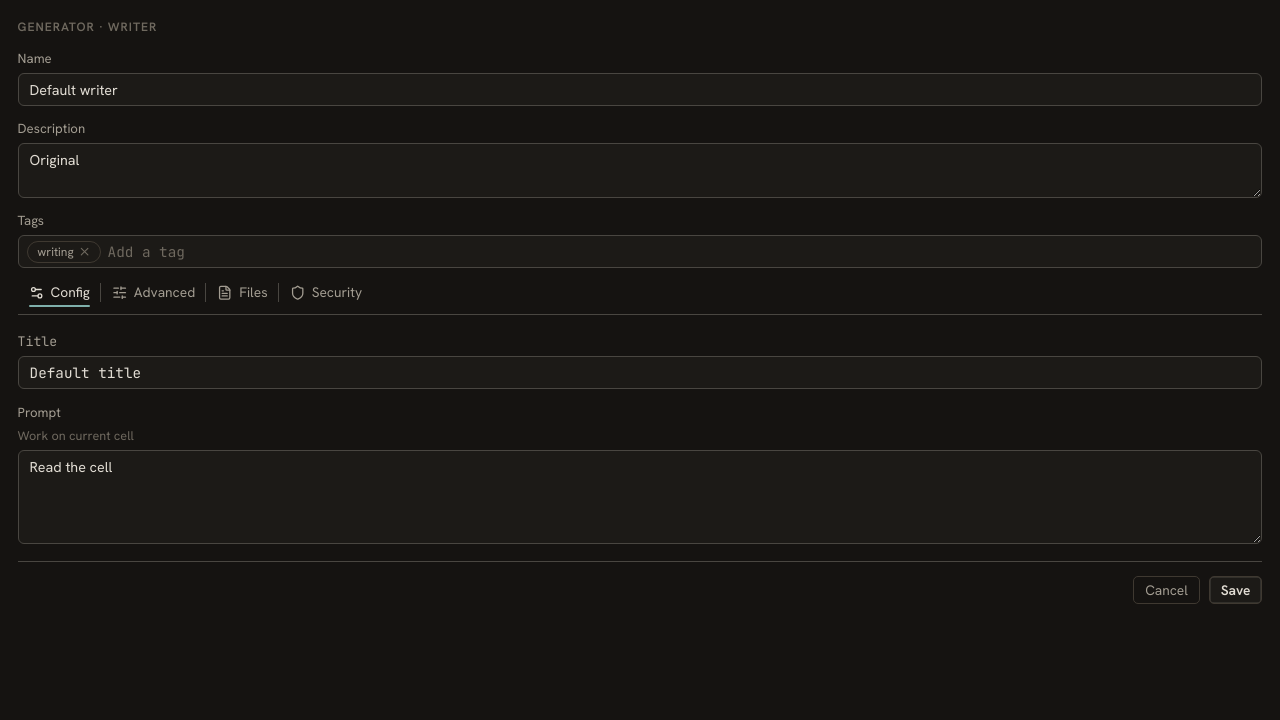
Test: Shared RunnerEditor › names each tab panel from its tab
The image size is (1280, 720).
Click the tab "Security".
click(326, 292)  # box [279, 282, 373, 302]
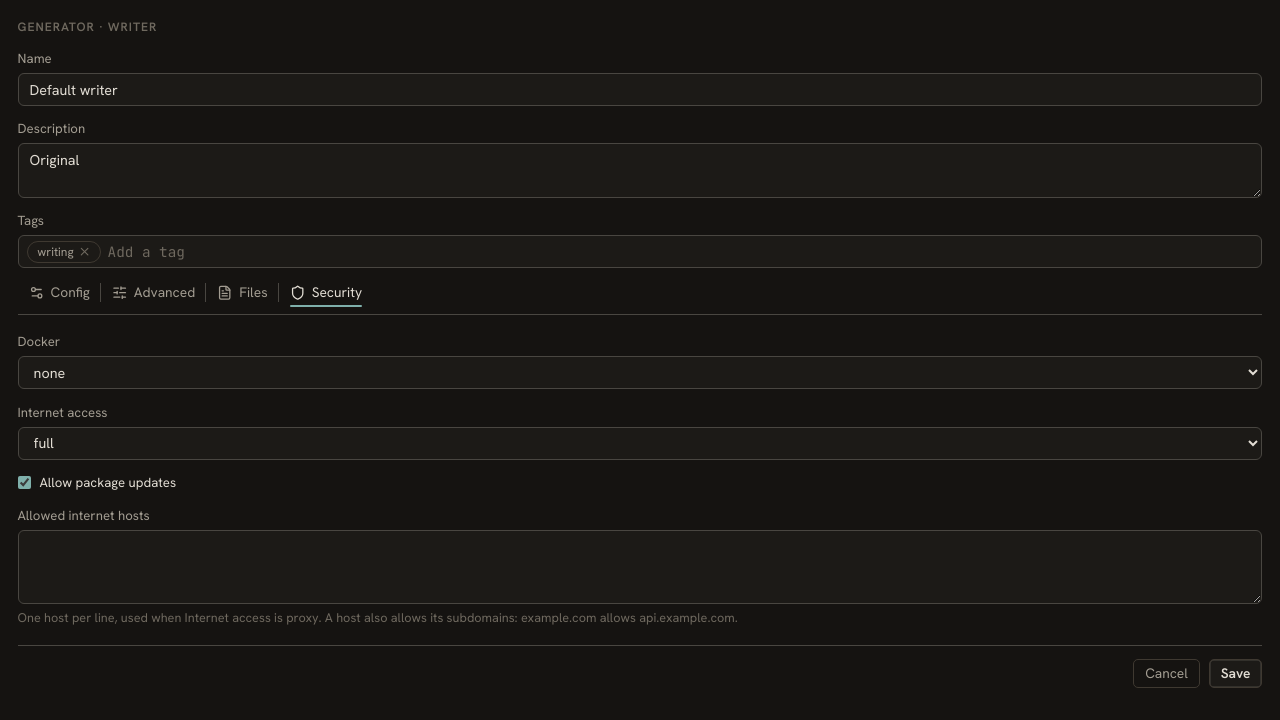
Check: the dropdown labelled "Docker" is shown, box [18, 356, 1262, 389]
